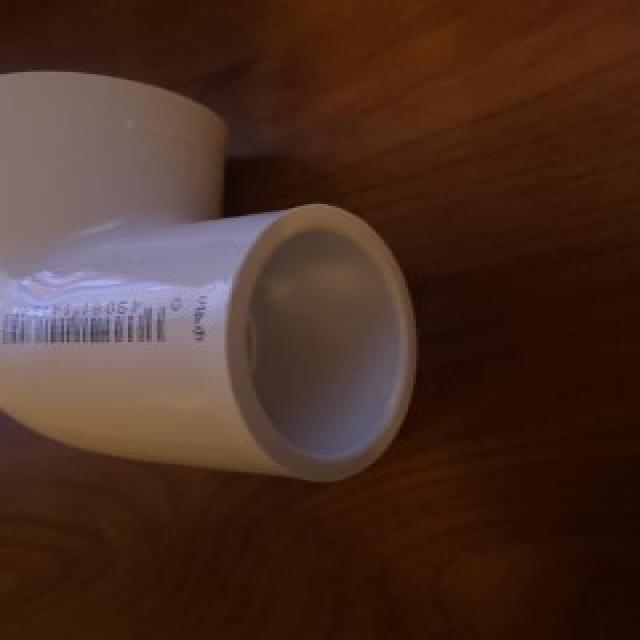L Joint: (0, 72, 420, 486)
